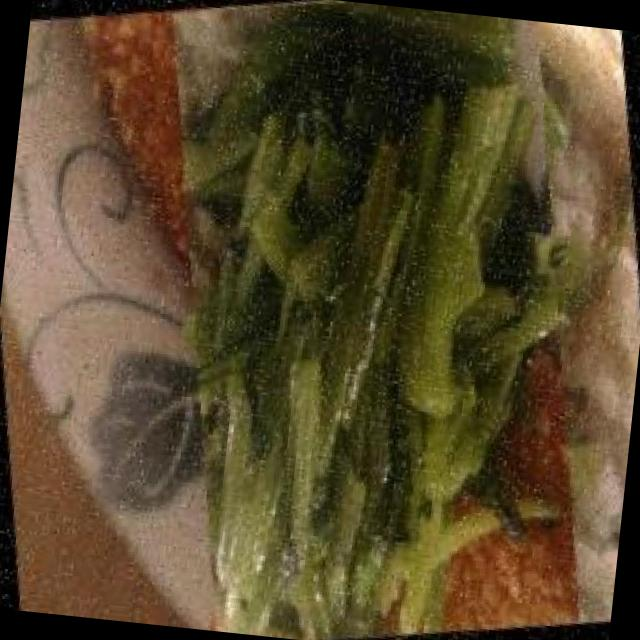water_spinach: (107, 0, 640, 640)
